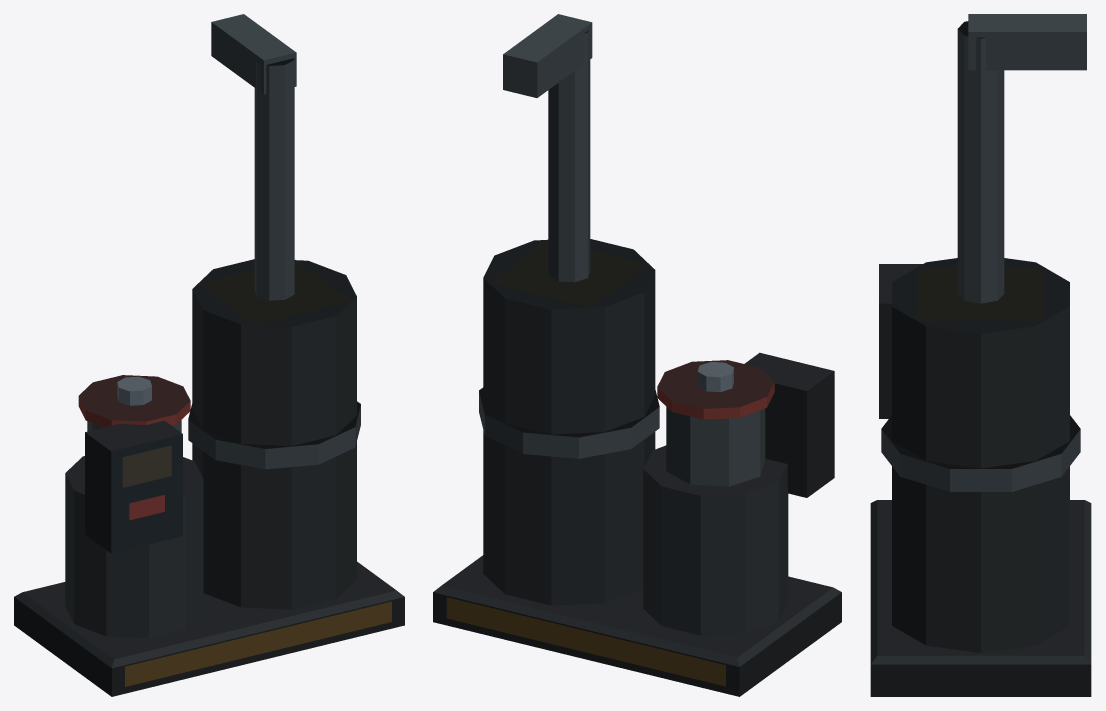
The model's file is lp_core_plant.glb.
3 views of the same model, side by side, from view 1: azimuth 30°, elevation 25°; view 2: azimuth 150°, elevation 25°; view 3: azimuth 270°, elevation 25° (orthographic). The views are drawn at different scales.
Parts seen in each view (by area): view 1: lp_core_plant; view 2: lp_core_plant; view 3: lp_core_plant.
Part boxes in pixels (x1,y1,x2,y2): lp_core_plant: (14,14,404,696); lp_core_plant: (433,14,841,696); lp_core_plant: (870,14,1091,696).
Bounding box in the file's own units: 0.9 × 1.63 × 0.521.
1 material, 1 textured.
